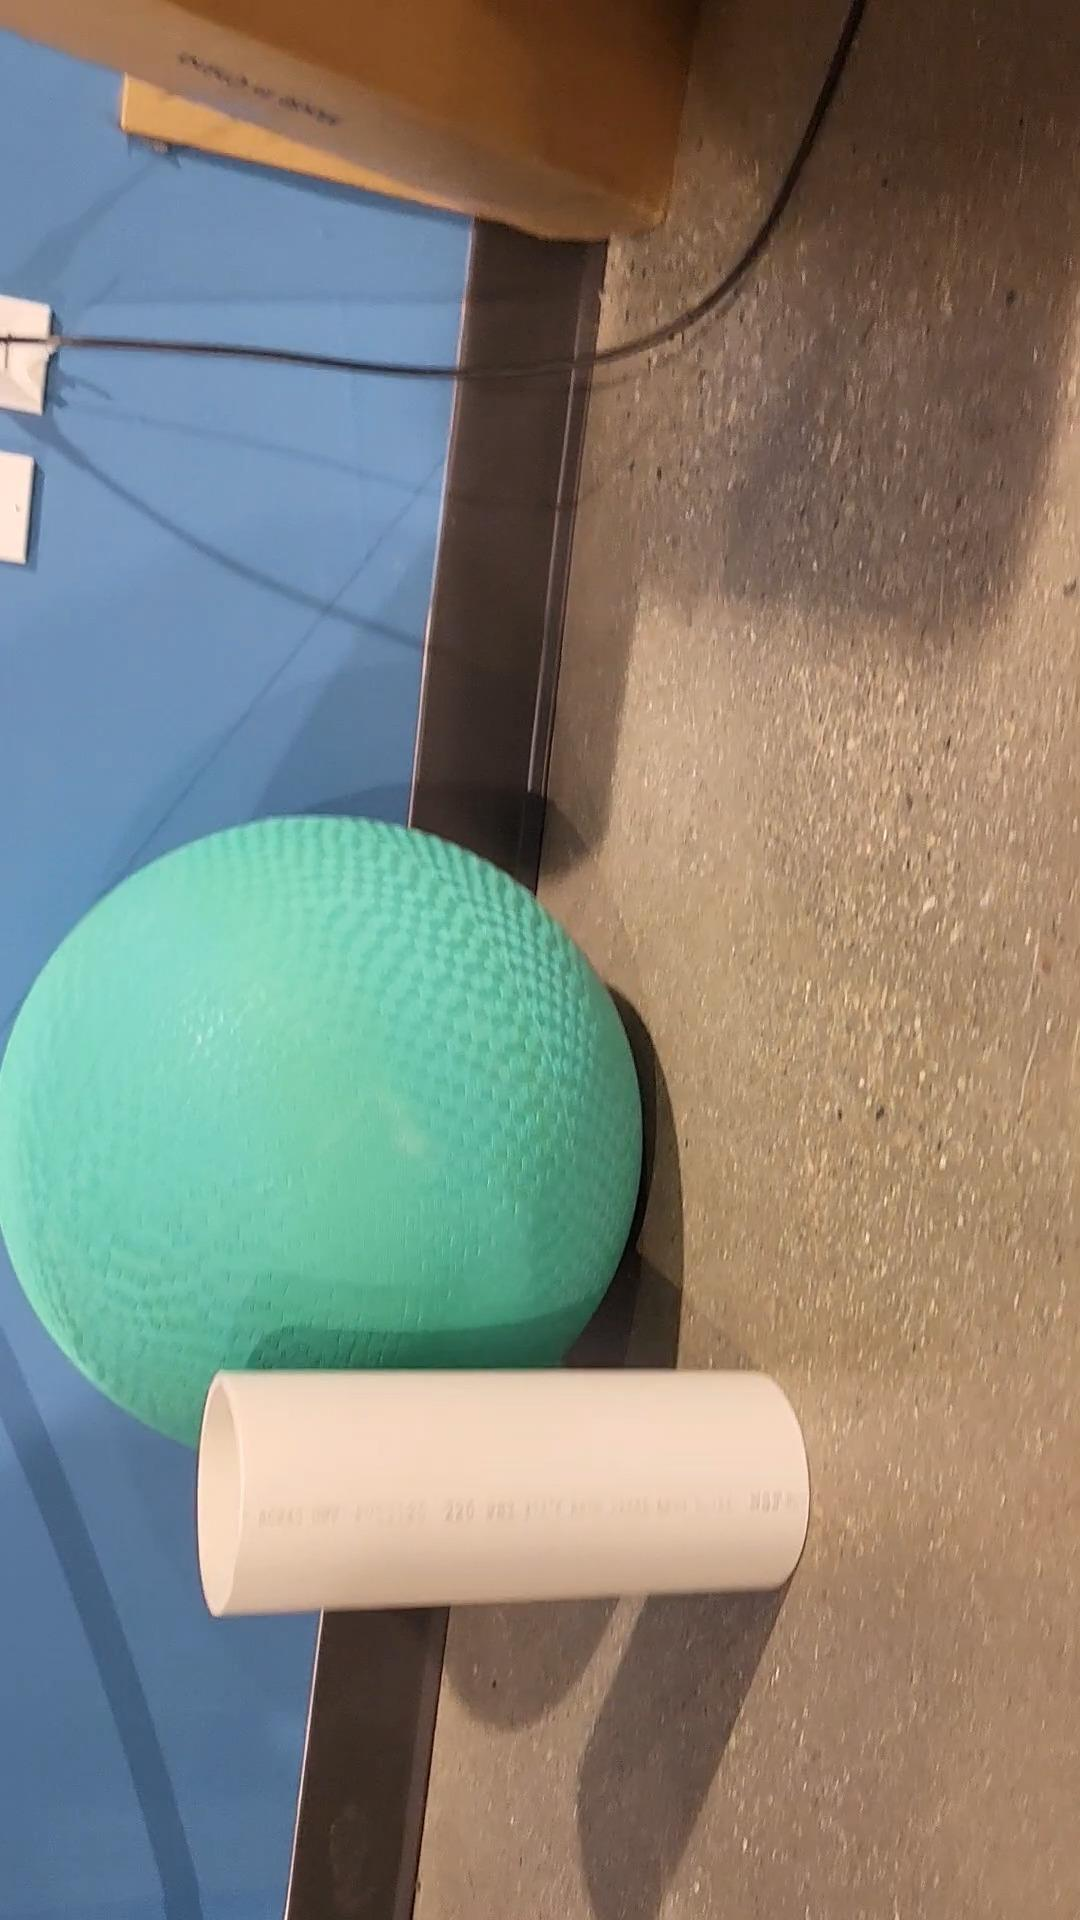algae: (0, 818, 642, 1462)
coral: (195, 1365, 807, 1607)
